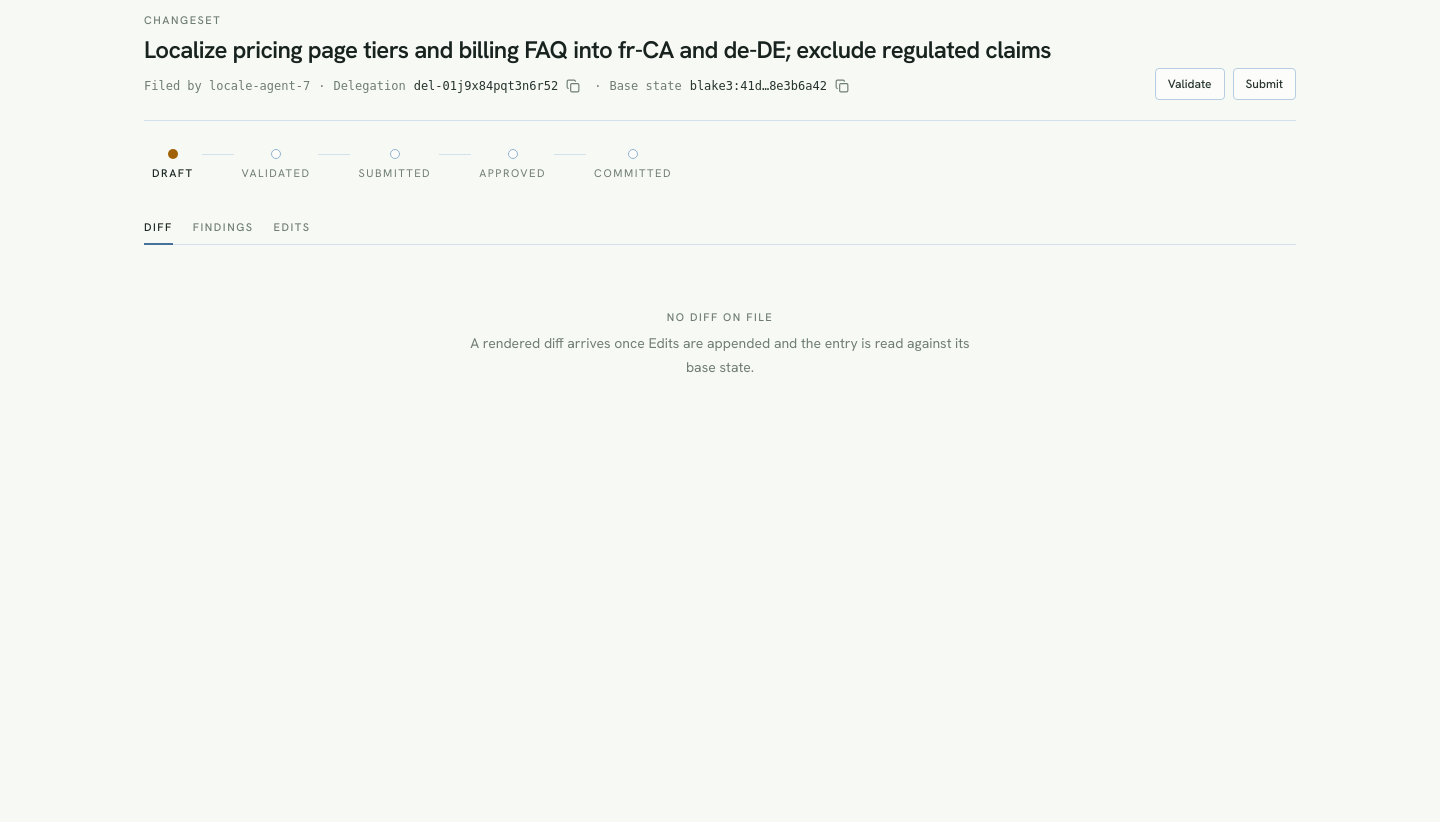
Test: ChangesetDetailPage › validates and submits a draft entry
Click the button "Validate": (1190, 84) [1155,68,1224,100]
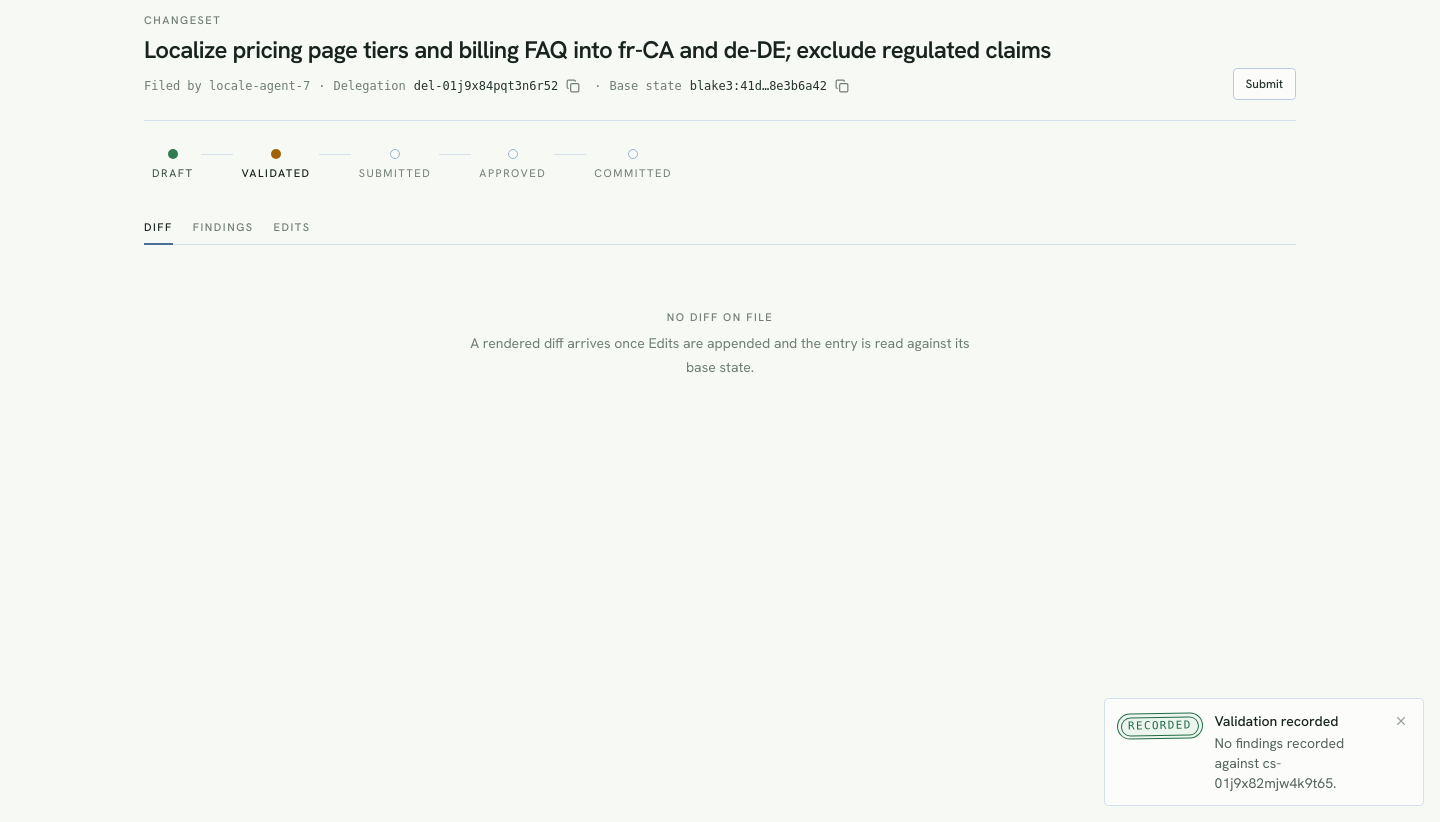
Result: the text "Validation recorded" is shown at [1214,712,1338,730]
Click the button "Submit": (1264, 84) [1232,68,1296,100]
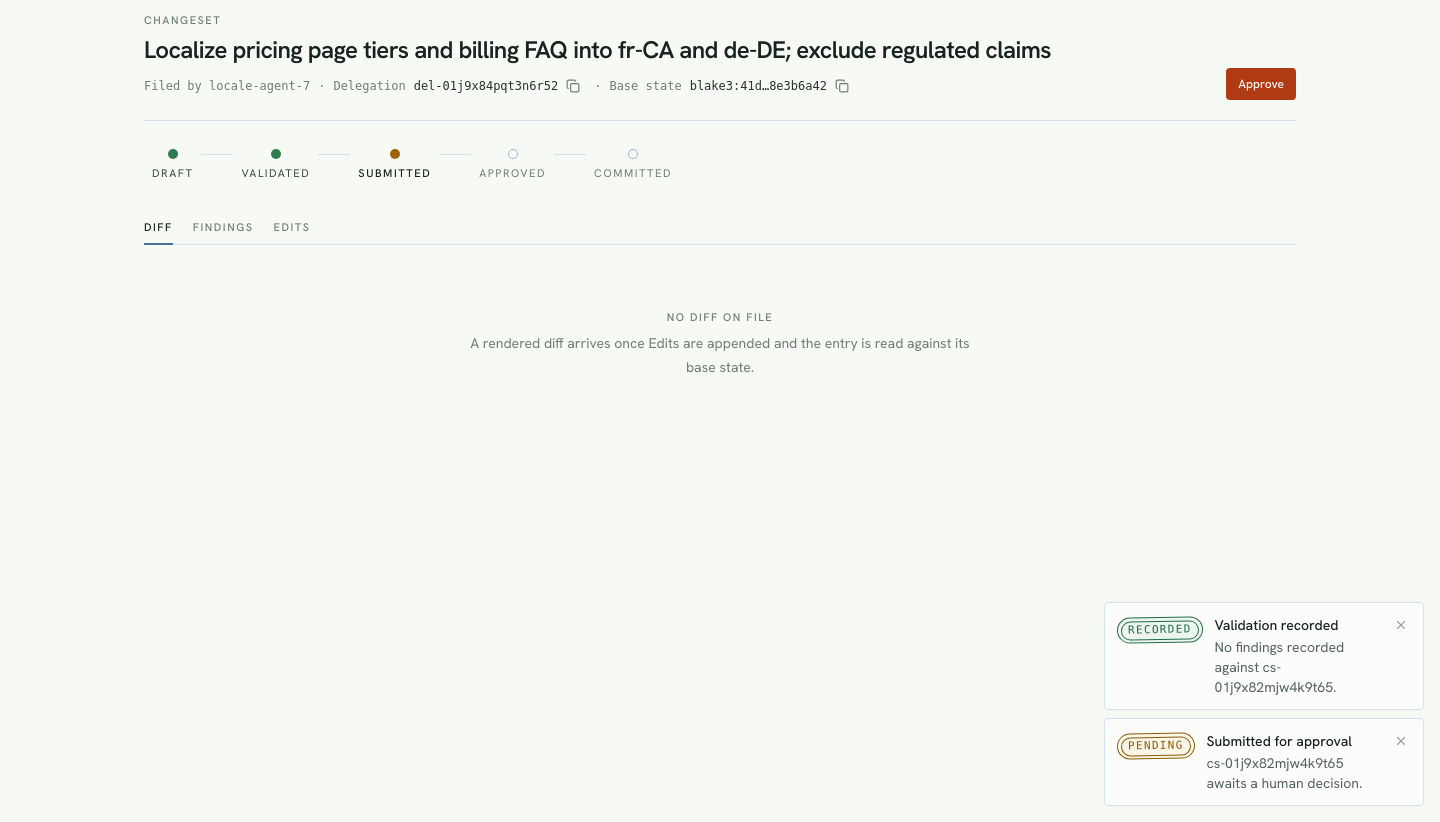
Result: the text "Submitted for approval" is shown at [1207,732,1352,750]
Result: the button "Approve" is shown at [1226,68,1296,100]
